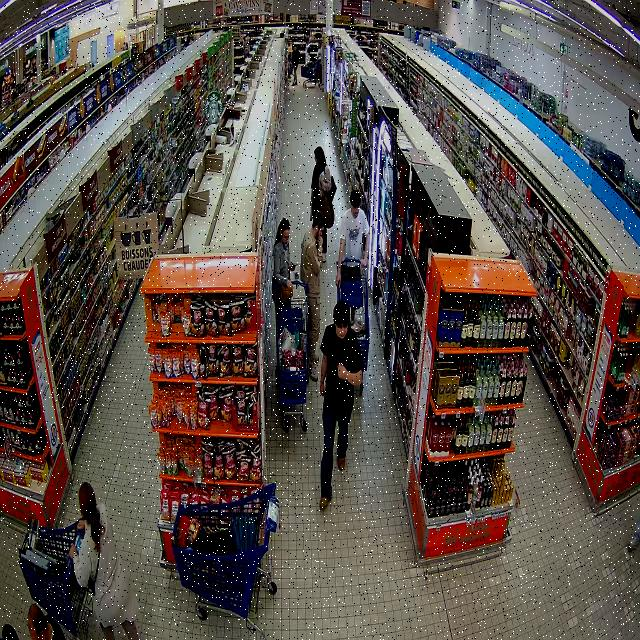bags: (315, 194, 334, 228), (278, 286, 292, 301), (329, 176, 336, 202), (88, 576, 95, 595), (96, 552, 100, 576), (88, 508, 96, 517)
hands: (338, 363, 362, 386), (69, 544, 78, 559), (286, 278, 294, 292), (360, 252, 367, 266), (77, 519, 86, 529), (320, 379, 325, 396), (335, 269, 340, 286), (318, 235, 323, 248), (291, 265, 296, 271), (319, 178, 323, 184)
person: (68, 482, 139, 640), (319, 300, 362, 510), (300, 214, 324, 380), (336, 190, 370, 287), (310, 147, 336, 262), (272, 218, 296, 304)
